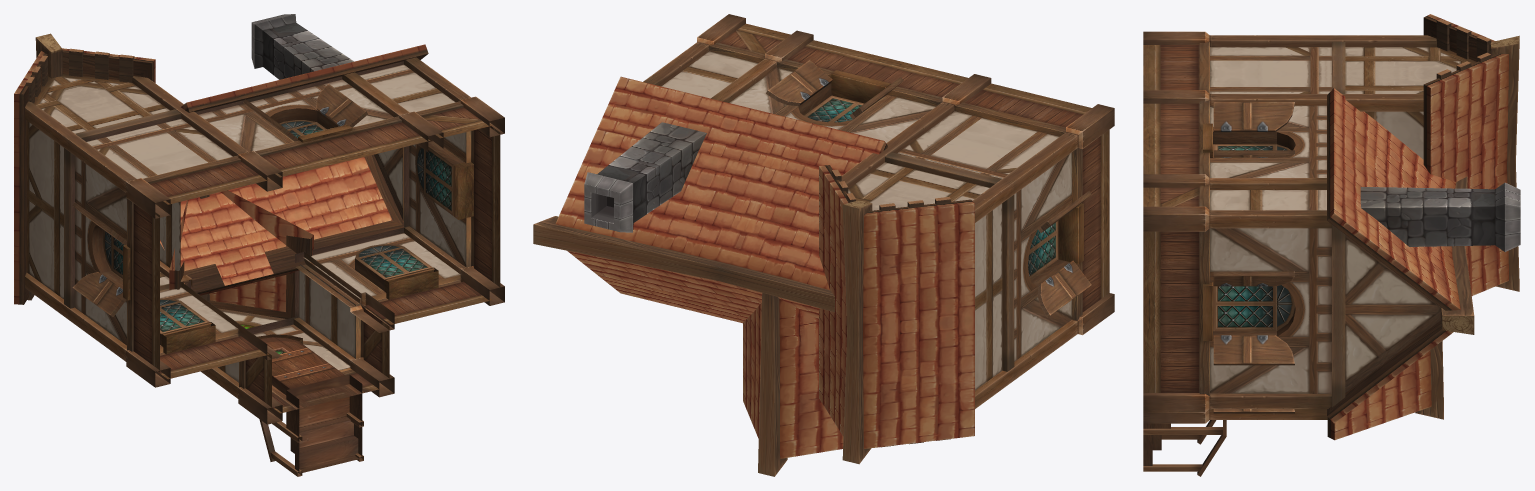
The model's file is House2.fbx.
3 views of the same model, side by side, from view 1: azimuth 30°, elevation 25°; view 2: azimuth 150°, elevation 25°; view 3: azimuth 270°, elevation 25° (orthographic). The views are drawn at different scales.
Visible parts, largest first — view 1: House2; view 2: House2; view 3: House2.
Boxes of the visible parts, x1=… form: House2: x1=14, y1=14, x2=504, y2=476; House2: x1=533, y1=14, x2=1114, y2=476; House2: x1=1143, y1=14, x2=1520, y2=476.
Size of what is drawn, in the model's own units: 9.18 by 7.67 by 7.26.
